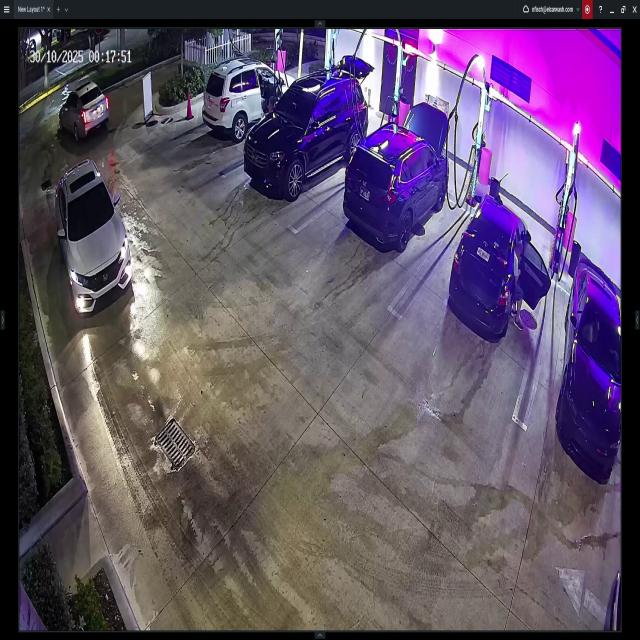Car: (244, 51, 372, 192), (345, 100, 448, 248), (558, 252, 620, 481), (450, 195, 550, 335), (53, 162, 132, 315), (205, 58, 295, 140), (57, 78, 109, 136)
